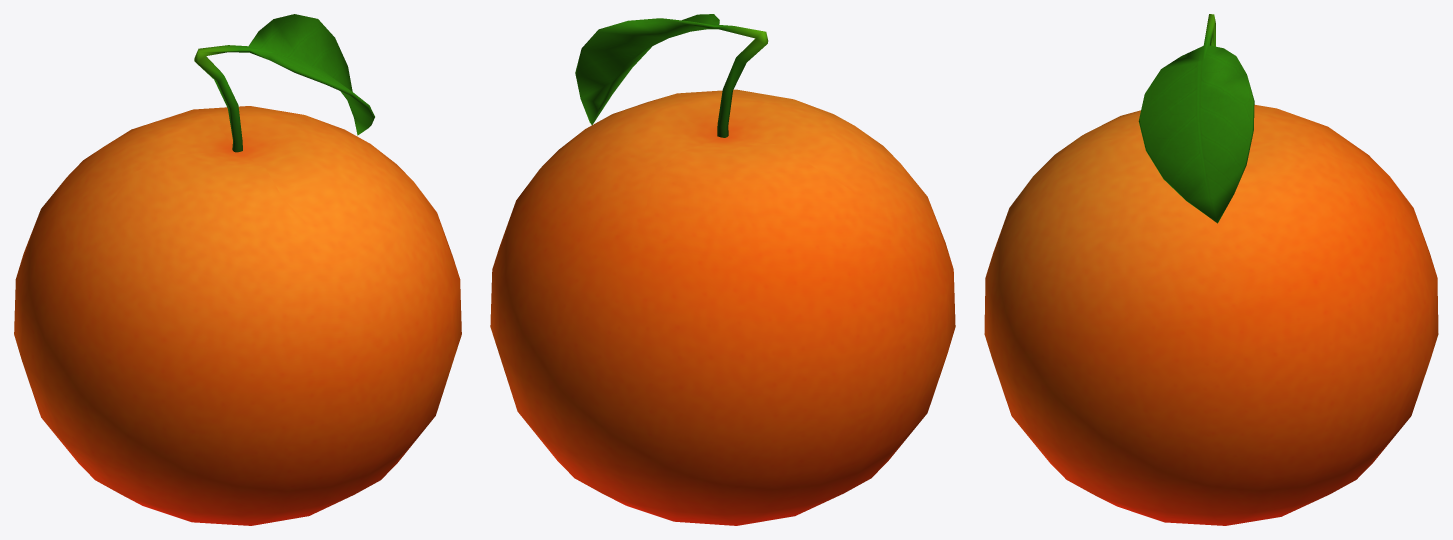
Rendered from orange-v1.glb.
3 renders of one model, left to right at view 1: azimuth 30°, elevation 25°; view 2: azimuth 150°, elevation 25°; view 3: azimuth 270°, elevation 25°, orthographic. The views are drawn at different scales.
Parts seen in each view (by area): view 1: orange; view 2: orange; view 3: orange.
Boxes of the visible parts, bbox=[...] form: orange: bbox=[14, 14, 461, 525]; orange: bbox=[490, 14, 955, 525]; orange: bbox=[984, 14, 1438, 525].
Bounding box in the file's own units: 24.22 × 27.16 × 24.22.
1 material, 1 textured.
